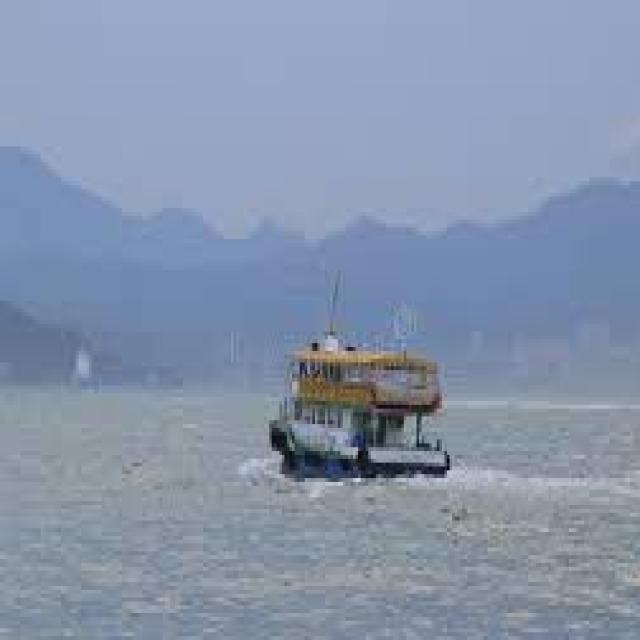passenger ship: (271, 301, 449, 491)
